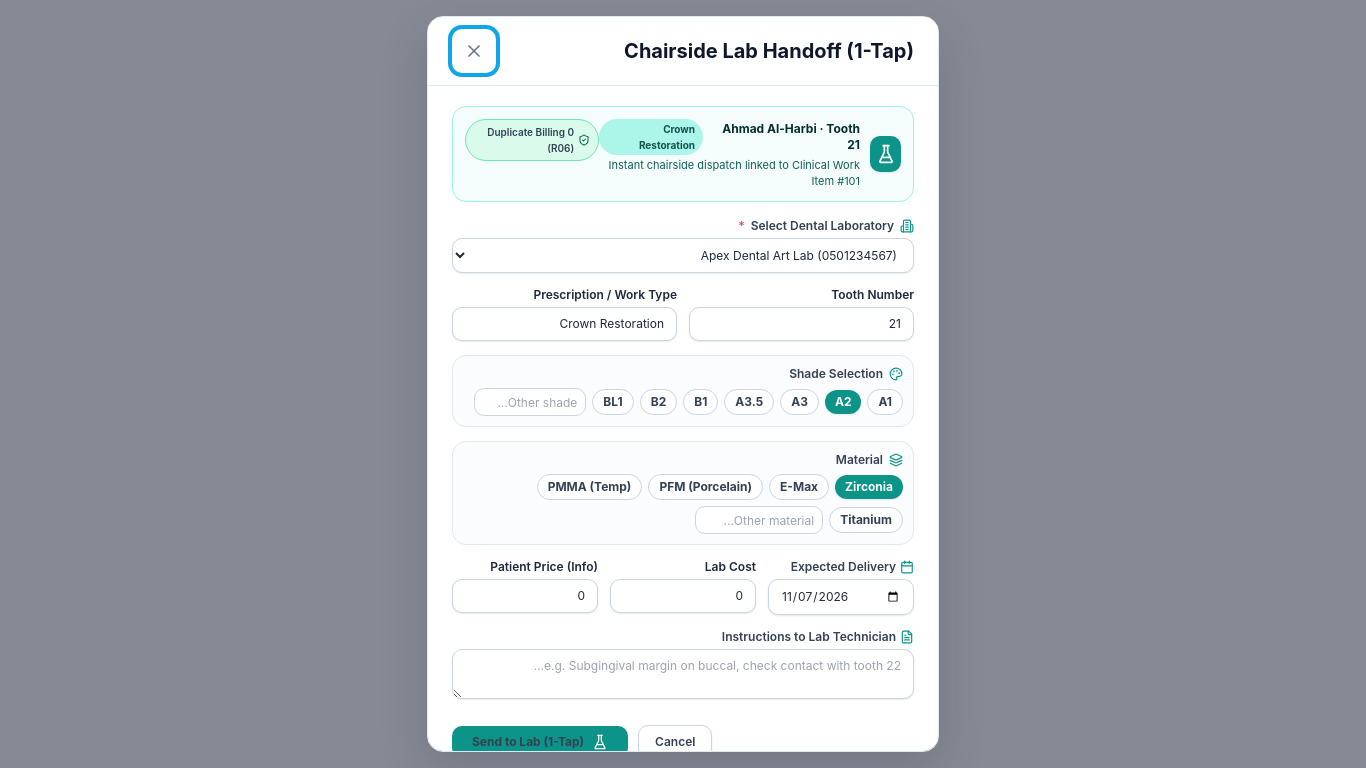
Test: Slice S28: 1-Tap Lab Handoff Sheet & Non-Duplicating Billing › G12-M06: LabHandoffSheet Component › submits lab handoff and displays success banner (G12-M06, G12-M08, G12-M09, G12-M16)
# Select lab 1
Select "Apex Dental Art Lab (0501234567)" in the dropdown with test id "lab-select": (683, 256) [452,238,914,273]
Click the button with test id "submit-lab-handoff": (540, 742) [452,726,628,758]
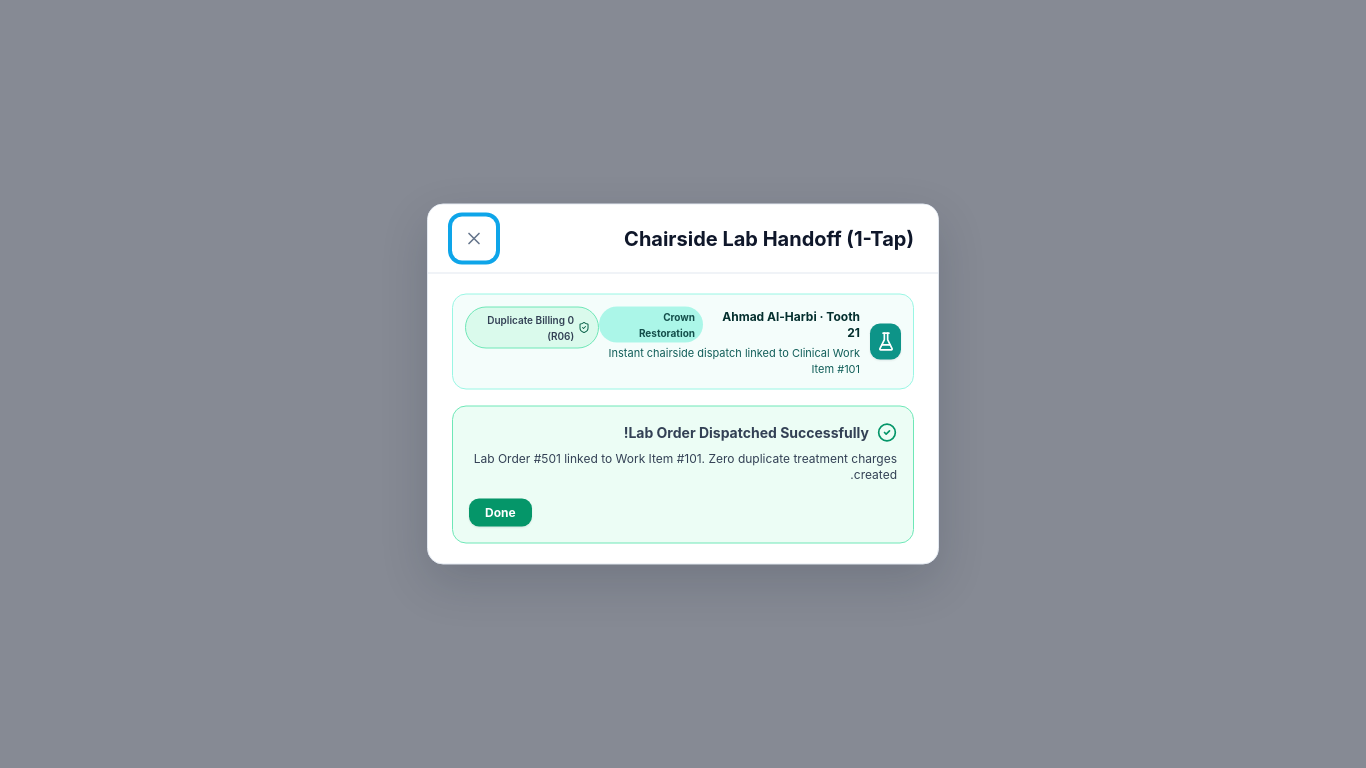
Now the element with test id "lab-handoff-success" is shown, box [452,406,914,544]
